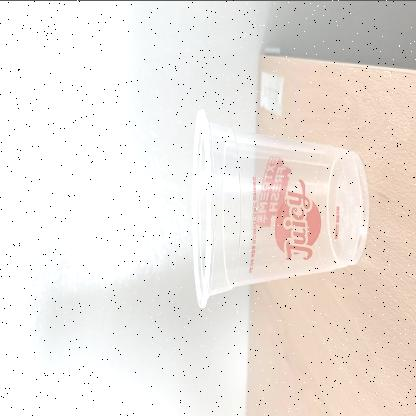Others: (191, 104, 369, 308)
